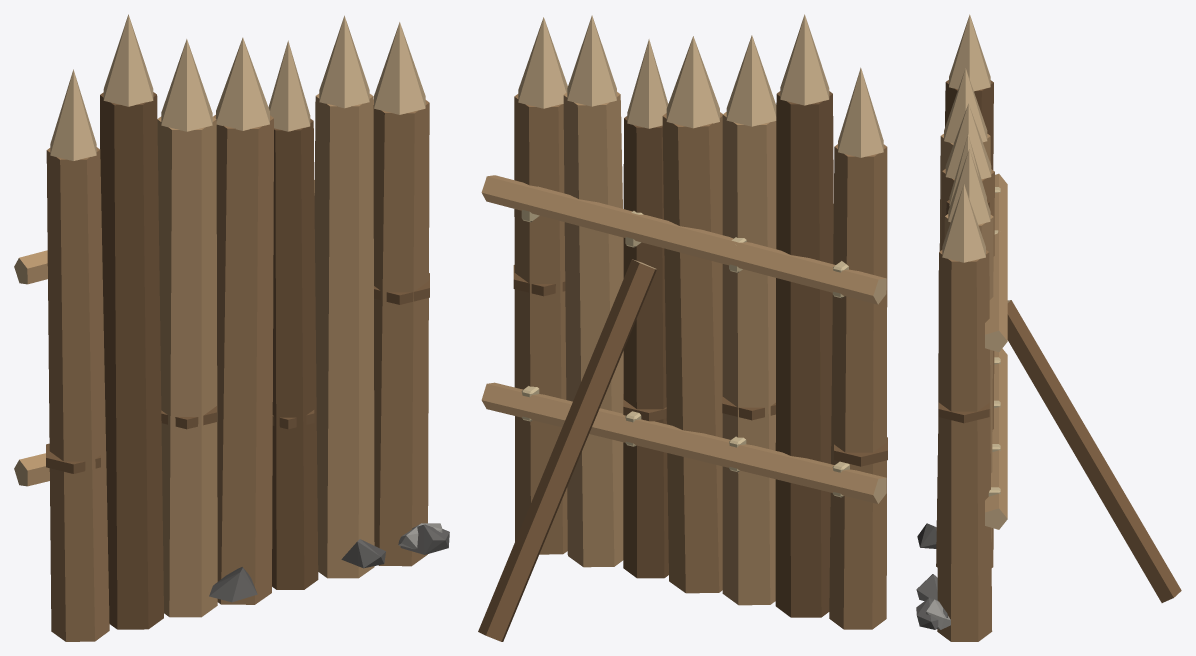
Rendered from palisade.glb.
3 views of the same model, side by side, from view 1: azimuth 30°, elevation 25°; view 2: azimuth 150°, elevation 25°; view 3: azimuth 270°, elevation 25° (orthographic). The views are drawn at different scales.
Parts seen in each view (by area): view 1: Palisade; view 2: Palisade; view 3: Palisade.
Boxes of the visible parts, x1,y1,x2,y2 form: Palisade: (14, 14, 449, 641); Palisade: (478, 14, 887, 641); Palisade: (916, 14, 1181, 641).
Bounding box in the file's own units: 2.16 × 3.14 × 1.48.
